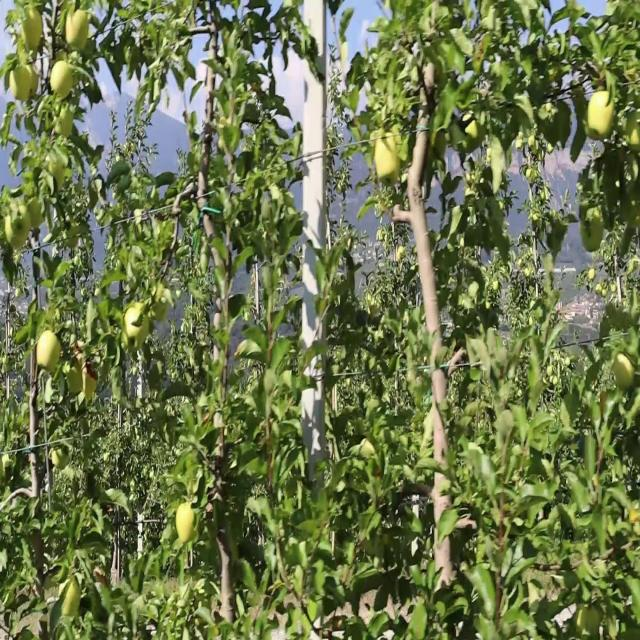apple: (588, 92, 616, 142), (376, 135, 403, 185), (36, 327, 63, 373), (548, 99, 572, 148), (124, 305, 150, 348), (20, 7, 44, 52), (580, 213, 605, 256), (620, 106, 640, 155), (12, 63, 35, 105), (8, 206, 30, 249), (612, 355, 636, 393), (576, 604, 602, 639), (68, 14, 91, 53), (176, 504, 197, 546), (61, 575, 81, 619), (52, 63, 75, 101), (152, 284, 174, 322), (72, 341, 92, 377), (68, 362, 87, 398), (28, 199, 47, 233), (56, 106, 75, 140), (68, 369, 86, 398), (52, 447, 70, 469), (64, 227, 80, 249), (52, 447, 68, 469), (88, 355, 99, 384), (628, 504, 640, 526), (32, 71, 40, 98)
